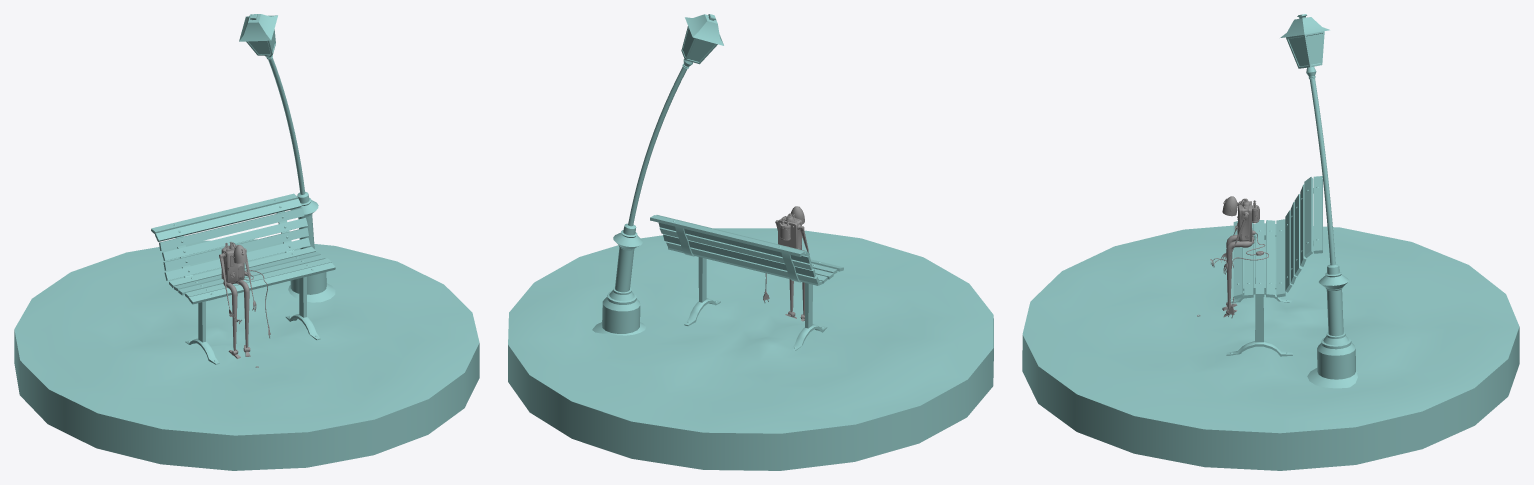
File: SadRobot.fbx
The picture shows the model from 3 angles, left to right: view 1: azimuth 30°, elevation 25°; view 2: azimuth 150°, elevation 25°; view 3: azimuth 270°, elevation 25°; orthographic projection. The views are drawn at different scales.
Parts seen in each view (by area): view 1: Cylinder089_Retopo, lamp, __G2_low, Box031, Box030, Box029, Box028, Box022, Box027, Box032, Box026, Box023 (+4 smaller); view 2: Cylinder089_Retopo, lamp, Box032, Box028, __G2_low, Box029, Box027, Box030, Box034, Box033; view 3: Cylinder089_Retopo, lamp, __G2_low, Box034, Box026, Box032, Box025, Box031, Box024, Box022, Box029, Box023.
Boxes of the visible parts, x1,y1,x2,y2 form: Cylinder089_Retopo: (14,239,479,470); lamp: (239,14,335,302); __G2_low: (220,245,250,355); Box031: (155,198,301,241); Box030: (159,207,304,250); Box029: (162,217,307,260); Box028: (163,227,308,270); Box022: (188,262,335,304); Box027: (164,237,310,280); Box032: (151,193,298,233); Box026: (169,246,315,288); Box023: (185,258,331,298); Cylinder089_Retopo: (508,228,993,470); lamp: (592,14,723,335); Box032: (650,215,804,256); Box028: (663,234,815,277); __G2_low: (776,206,808,318); Box029: (659,227,812,269); Box027: (666,241,819,283); Box030: (658,222,810,263); Box034: (684,257,720,325); Box033: (791,283,827,350); Cylinder089_Retopo: (1022,223,1519,470); lamp: (1280,14,1357,388); __G2_low: (1222,196,1251,314); Box034: (1226,289,1292,356); Box026: (1276,219,1285,297); Box032: (1313,176,1322,253); Box025: (1266,220,1275,297); Box031: (1304,177,1313,257); Box024: (1255,220,1264,296); Box022: (1233,221,1242,298); Box029: (1294,194,1301,276); Box023: (1244,222,1253,298).
Size of the model in its own units: 311 by 251 by 311.
